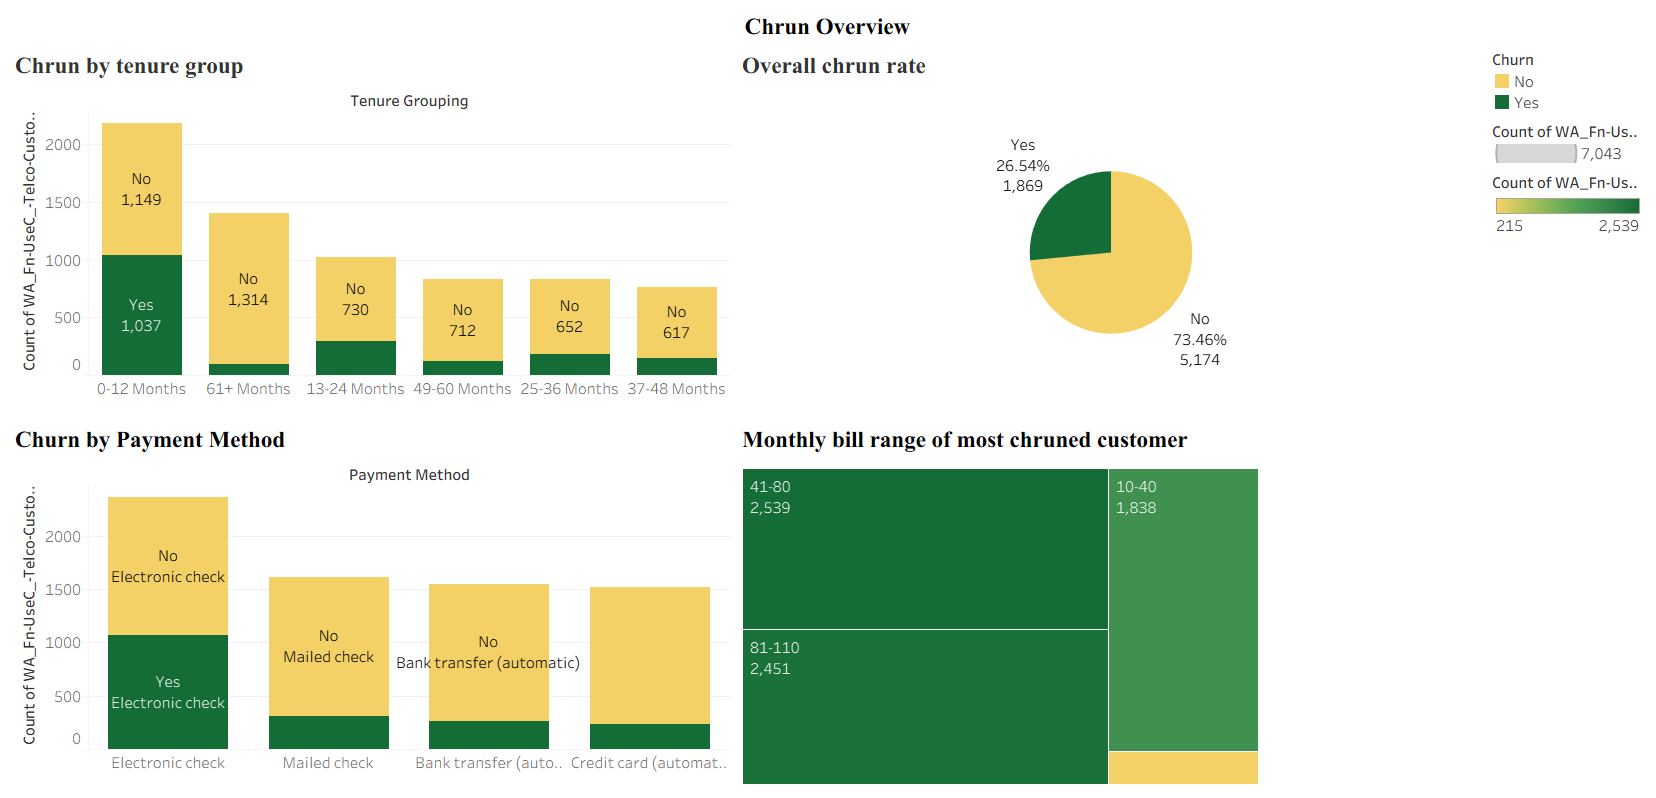

What the dashboard file says about the page in this screenshot:
{"tool":"tableau","page":{"name":"Chrun overview","canvas":[1000,1000],"units":"permille","ordinal":0},"visuals":[{"type":"text","box":[4.8,10,990.3,46.2]},{"type":"worksheet","title":"Q3","mark":"Automatic","rows":["WA_Fn-UseC_-Telco-Customer-Churn.csv_ACE9E4540EF741708C52DFA"],"cols":["Calculation_1099441285815173120"],"box":[4.8,56.2,438.7,466.9]},{"type":"worksheet","title":"Q1","mark":"Pie","box":[443.6,56.2,455,466.9]},{"type":"legend","title":"Q1","param":"[federated.0qba2vc0a2q61f15rh6xe1evlxum].[none:Churn:nk]","box":[898.6,56.2,96.6,89.9]},{"type":"legend","title":"Q1","param":"[federated.0qba2vc0a2q61f15rh6xe1evlxum].[__tableau_internal_object_id__].[cnt:W","box":[898.6,146.1,96.6,63.7]},{"type":"legend","title":"Q8","param":"[federated.0qba2vc0a2q61f15rh6xe1evlxum].[__tableau_internal_object_id__].[cnt:W","box":[898.6,209.7,96.6,91.1]},{"type":"worksheet","title":"Q6","mark":"Automatic","rows":["WA_Fn-UseC_-Telco-Customer-Churn.csv_ACE9E4540EF741708C52DFA"],"cols":["PaymentMethod"],"box":[4.8,523.1,438.7,466.9]},{"type":"worksheet","title":"Q8","mark":"Automatic","box":[443.6,523.1,455,466.9]}]}

Visuals, with their boxes on the dashboard's canvas, which has no fixed pixel size, in thousandths of its width and height (x1, y1, x2, y2). These are canvas units, not pixel positions in the 1656x798 screenshot, which may show the page scaled, cropped or inside an application window:
text: (5, 10, 995, 56)
"Q3" worksheet: (5, 56, 444, 523)
"Q1" worksheet (Pie marks): (444, 56, 899, 523)
"Q1" legend: (899, 56, 995, 146)
"Q1" legend: (899, 146, 995, 210)
"Q8" legend: (899, 210, 995, 301)
"Q6" worksheet: (5, 523, 444, 990)
"Q8" worksheet: (444, 523, 899, 990)
